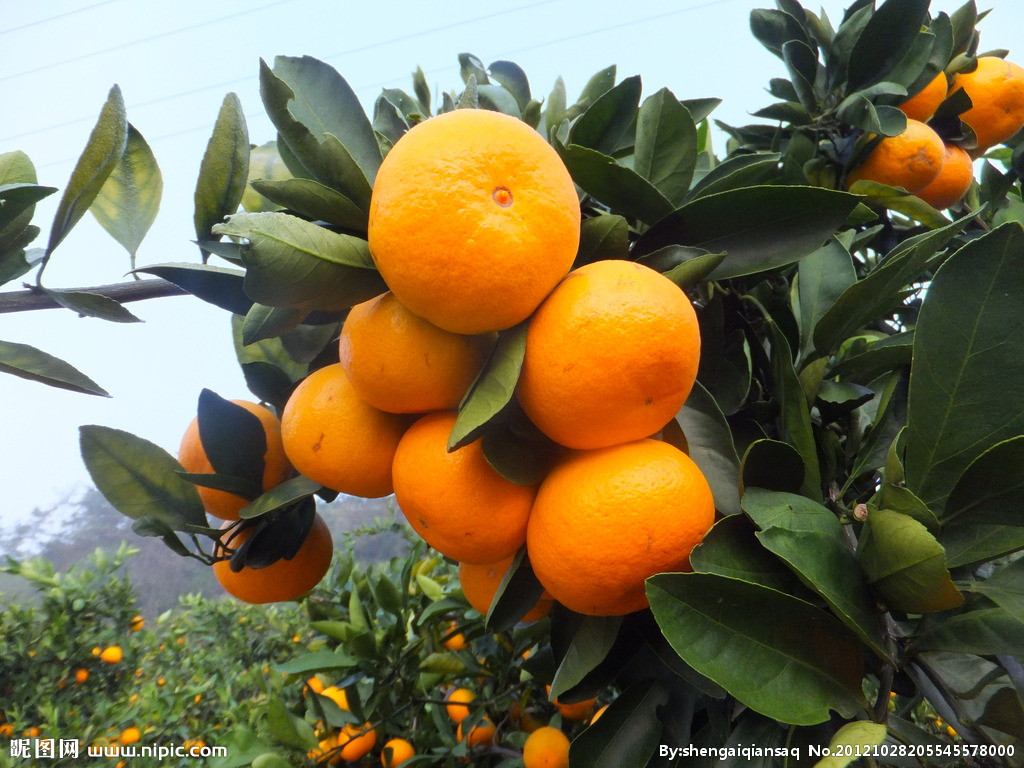orange: (369, 108, 580, 335), (518, 261, 699, 452), (529, 435, 713, 616), (392, 415, 546, 561), (280, 357, 412, 498), (338, 289, 486, 414), (462, 489, 572, 618), (212, 496, 331, 607), (178, 402, 286, 519), (839, 114, 949, 200), (944, 53, 1024, 151), (871, 45, 946, 128), (916, 144, 975, 208), (520, 726, 570, 768), (337, 721, 373, 761), (380, 735, 417, 768), (442, 686, 479, 719), (457, 716, 494, 749)
